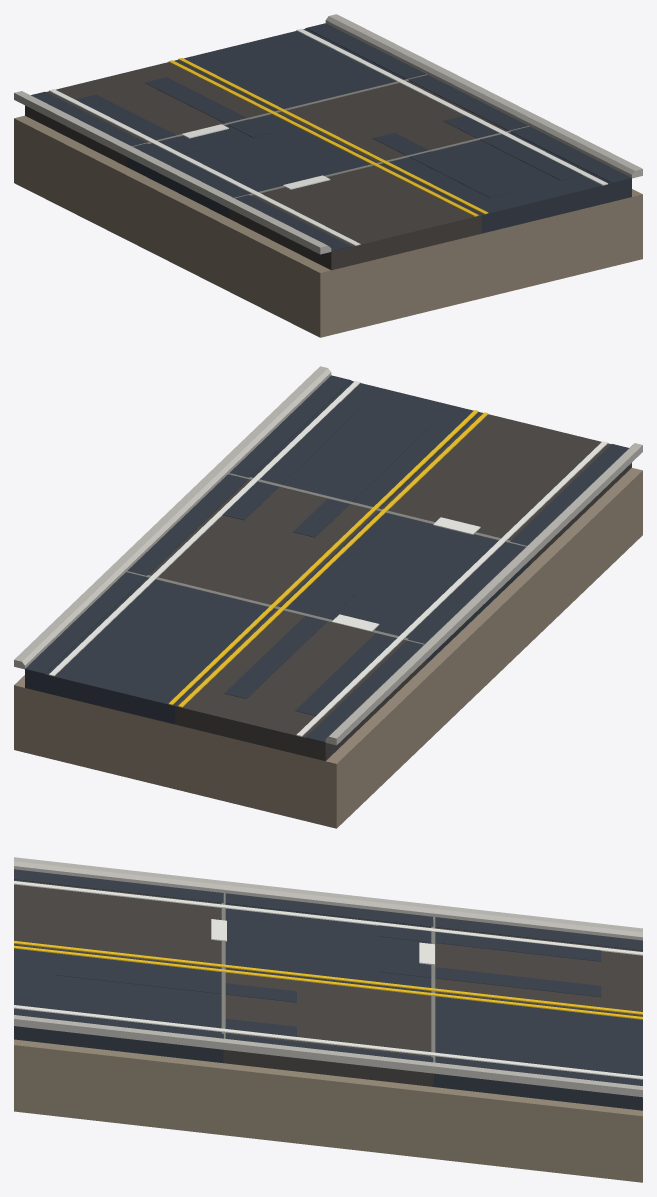
File: ROAD_08.obj
3 renders of one model, top to bottom at view 1: azimuth 30°, elevation 25°; view 2: azimuth 150°, elevation 25°; view 3: azimuth 270°, elevation 25°, orthographic. The views are drawn at different scales.
Parts seen in each view (by area): view 1: ROAD_08__surface, ROAD_08__embankment, ROAD_08__markings, ROAD_08__curb, ROAD_08__wear, ROAD_08__seams; view 2: ROAD_08__surface, ROAD_08__embankment, ROAD_08__markings, ROAD_08__wear, ROAD_08__curb, ROAD_08__seams; view 3: ROAD_08__surface, ROAD_08__embankment, ROAD_08__markings, ROAD_08__curb, ROAD_08__wear, ROAD_08__seams.
Part boxes in pixels (x1,y1,x2,y2): ROAD_08__surface: [25, 28, 631, 270]; ROAD_08__embankment: [14, 115, 642, 337]; ROAD_08__markings: [31, 23, 631, 251]; ROAD_08__curb: [14, 14, 642, 254]; ROAD_08__wear: [76, 77, 582, 197]; ROAD_08__seams: [132, 74, 529, 198]; ROAD_08__surface: [25, 380, 631, 761]; ROAD_08__embankment: [14, 468, 642, 828]; ROAD_08__markings: [25, 375, 628, 742]; ROAD_08__wear: [223, 402, 432, 715]; ROAD_08__curb: [14, 366, 642, 745]; ROAD_08__seams: [126, 473, 526, 644]; ROAD_08__surface: [14, 880, 642, 1110]; ROAD_08__embankment: [14, 1039, 642, 1182]; ROAD_08__markings: [14, 869, 642, 1085]; ROAD_08__curb: [14, 857, 642, 1097]; ROAD_08__wear: [55, 925, 601, 1036]; ROAD_08__seams: [221, 893, 435, 1062].
Bounding box in the file's own units: 7.3 × 3.45 × 12.
